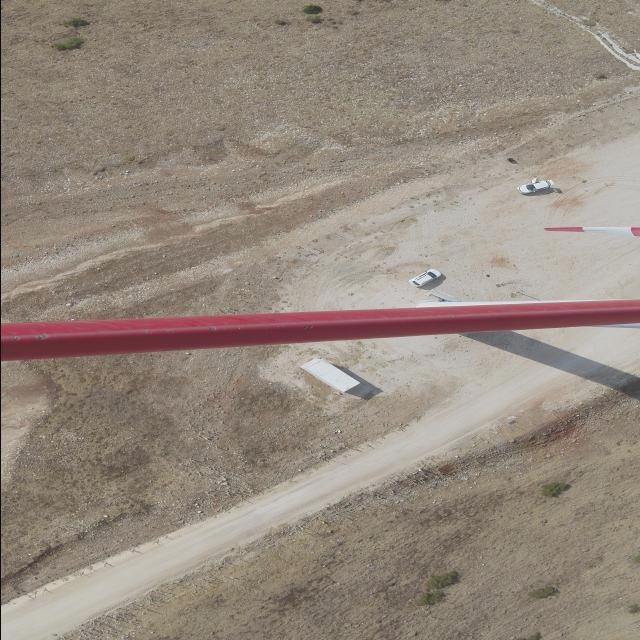Coating_defects: (28, 325, 53, 346), (203, 321, 221, 337)
EROSION: (189, 324, 299, 334), (3, 334, 92, 344)
